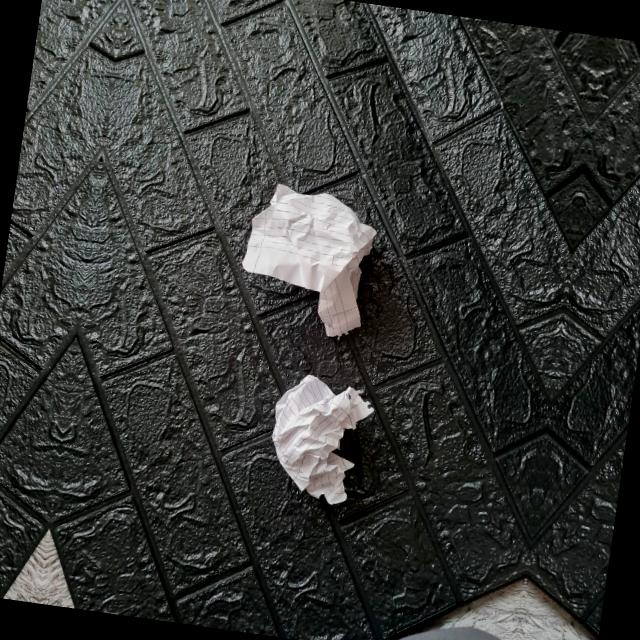paper: (238, 180, 384, 336), (259, 366, 380, 508)
